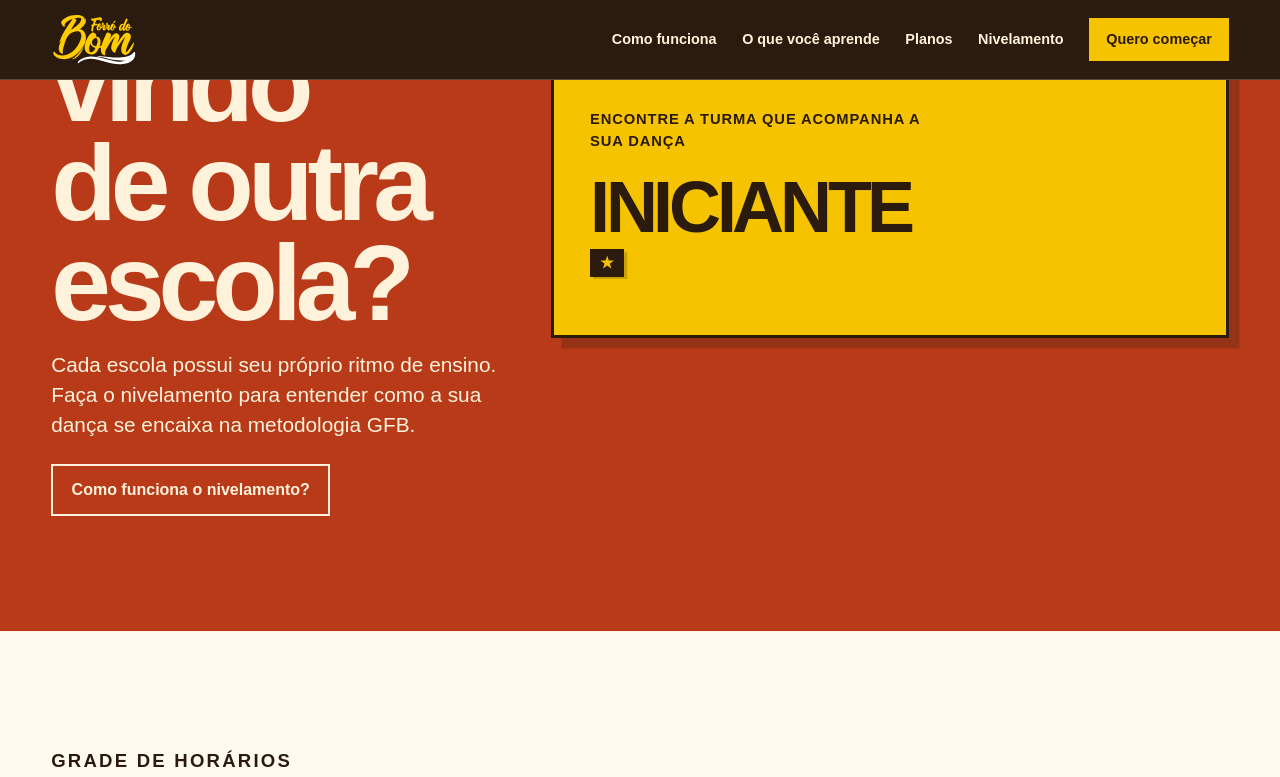
Test: LandingPage › uses a branded accessible level selector and describes the teacher evaluation
(page scrolled)
Click the button "Como funciona o nivelamento?": point(191, 491) [51,465,330,517]
(page scrolled)
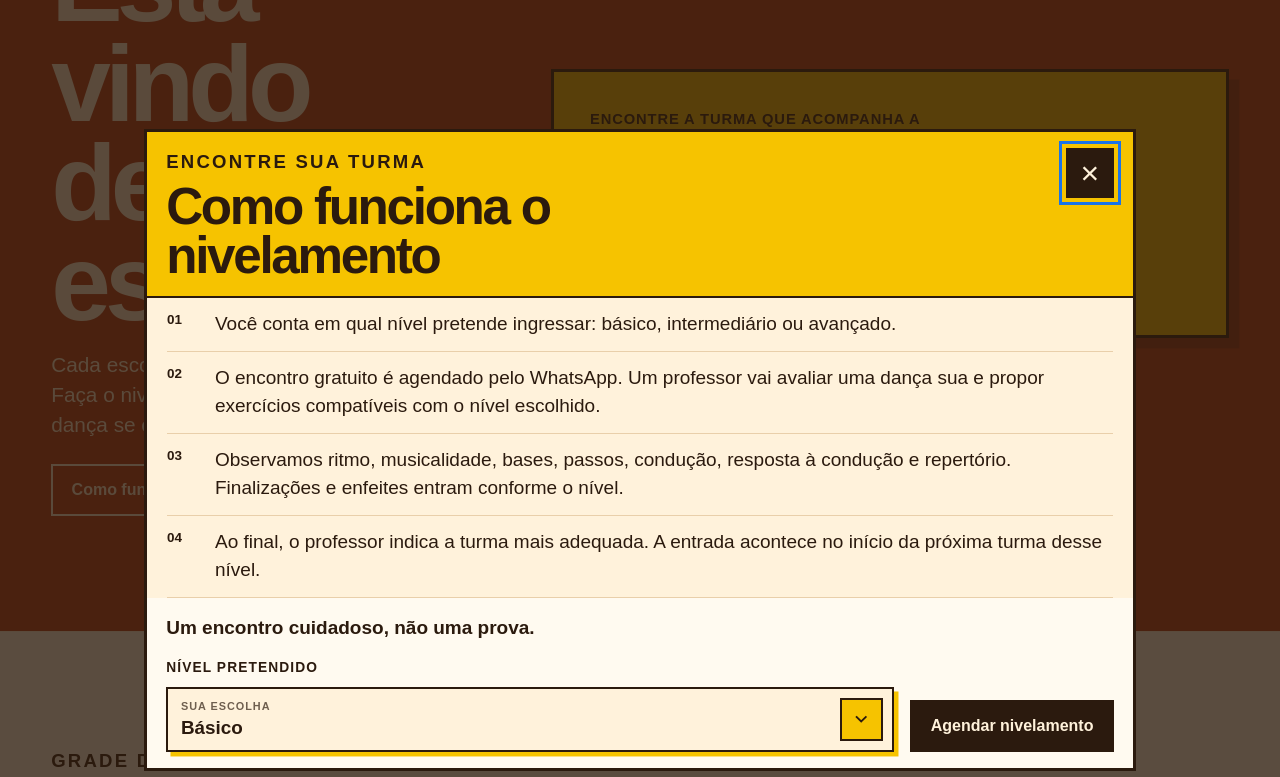
Expected: the text "um professor vai avaliar uma dança sua" is shown, [215,367,1044,416]
Click the dropdown named "Nível pretendido": point(226, 706) [166,687,894,752]
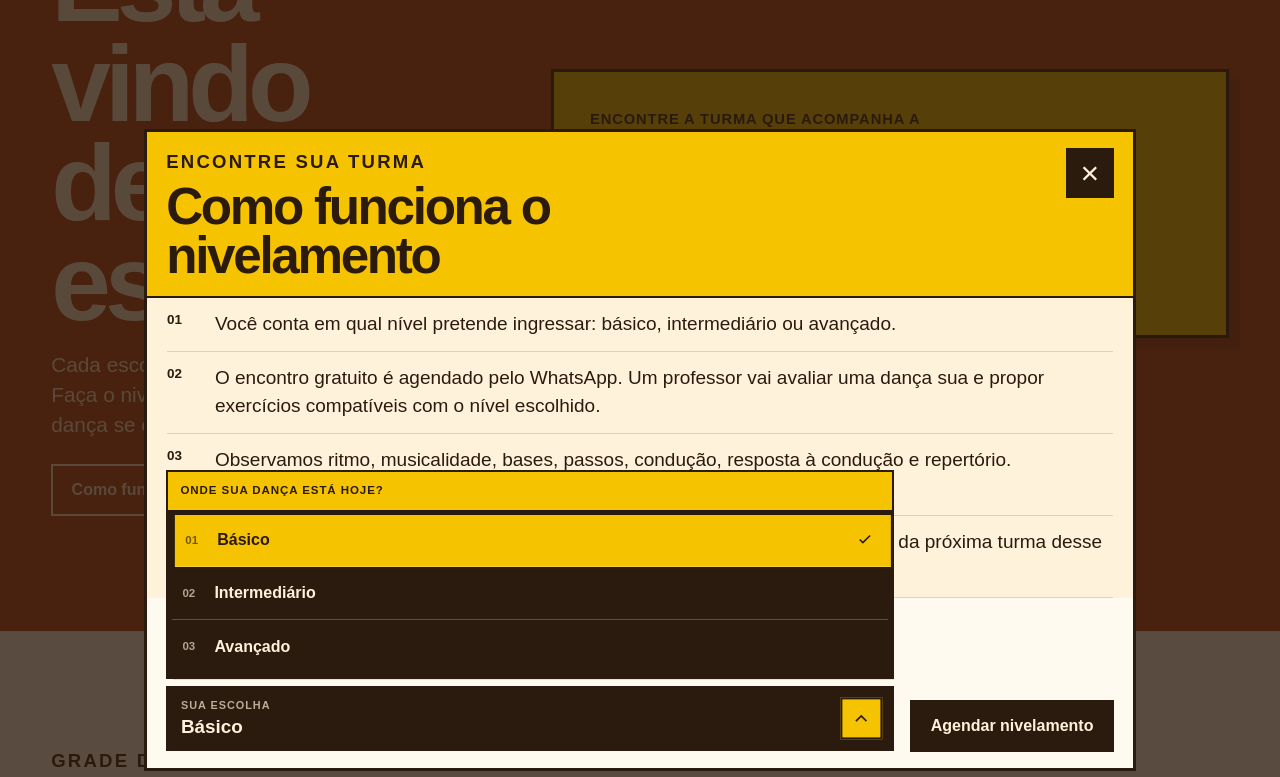
Expected: the dropdown named "Nível pretendido" is expanded, [166,686,894,751]
Expected: the list "01 Básico 02 Intermediário 03 Avançado" is shown, [168,510,892,677]
Expected: the number of options is 3, [175,515,890,567]; [172,567,888,620]; [182,638,290,655]
